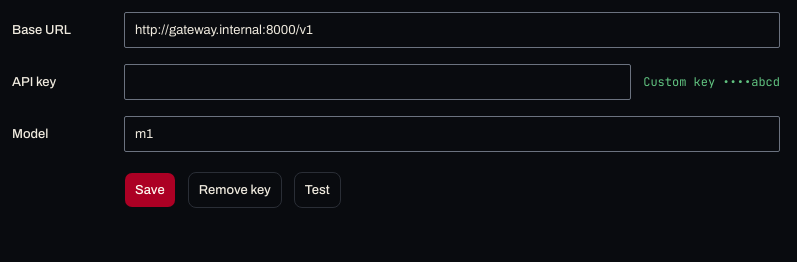
Test: ConnectionForm › surfaces a 408-free detail string verbatim
Expected: the field labelled "Base URL" is shown, [124,12,780,48]
Click the button "Save" at (150, 190), box [124,172,176,208]
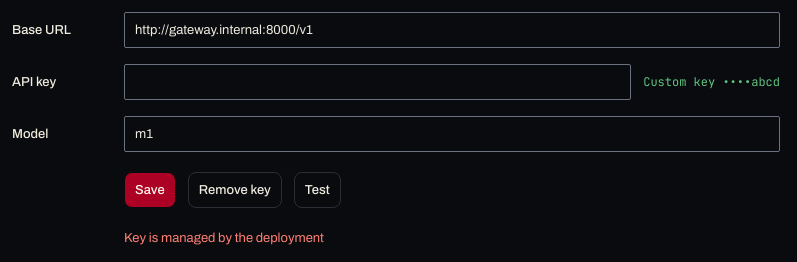
Expected: the text "Key is managed by the deployment" is shown, [124,231,324,245]
